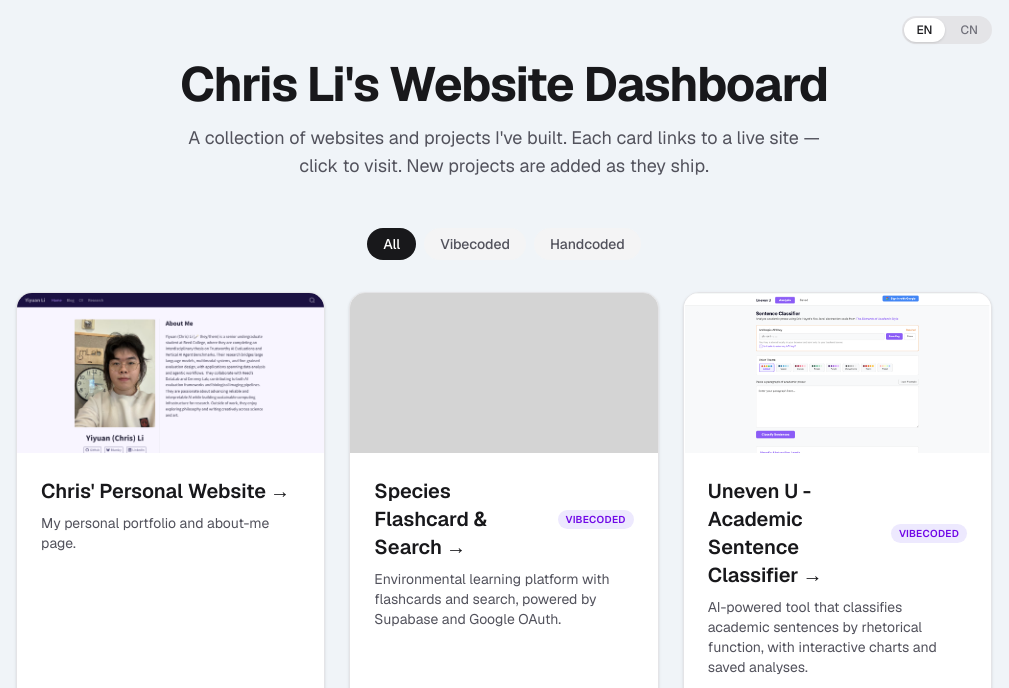
Language toggle › switches back to English when EN is clicked
Click the button "CN" at (969, 30), box left=948, top=18, right=990, bottom=42
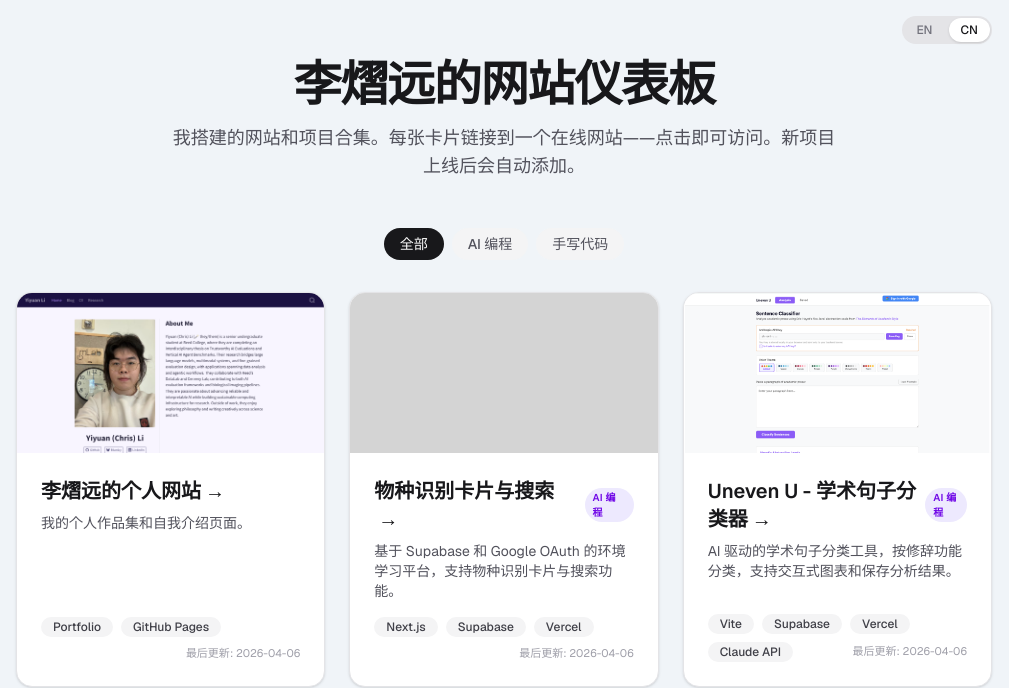
Click the button "EN" at (924, 30), box left=904, top=18, right=945, bottom=42
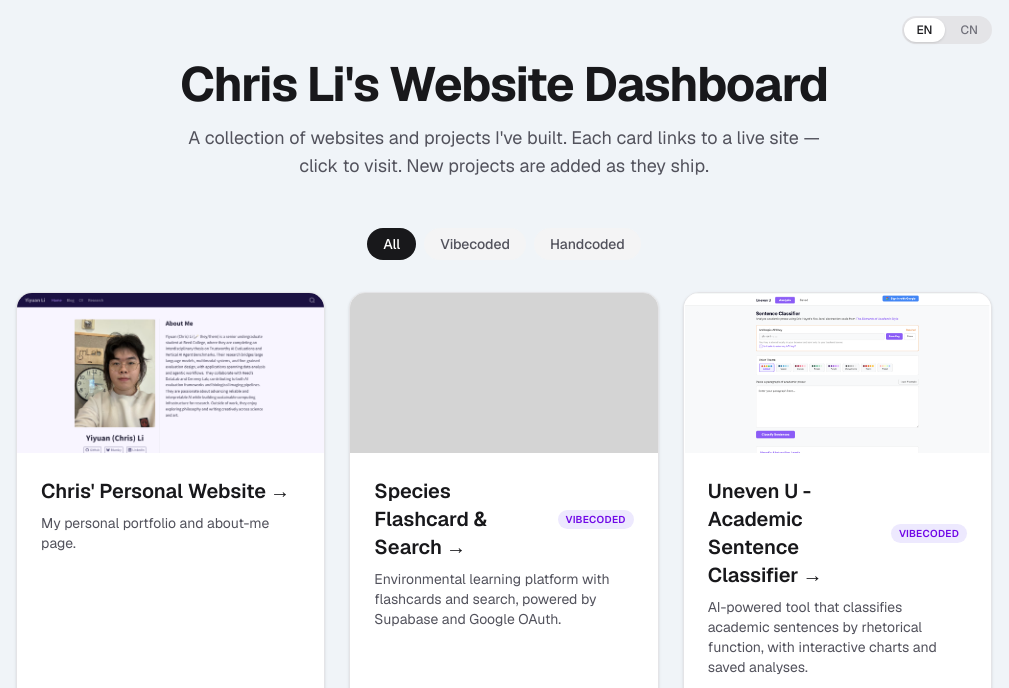
Expected: the heading "Chris Li's Website Dashboard" is shown, left=180, top=53, right=828, bottom=115
